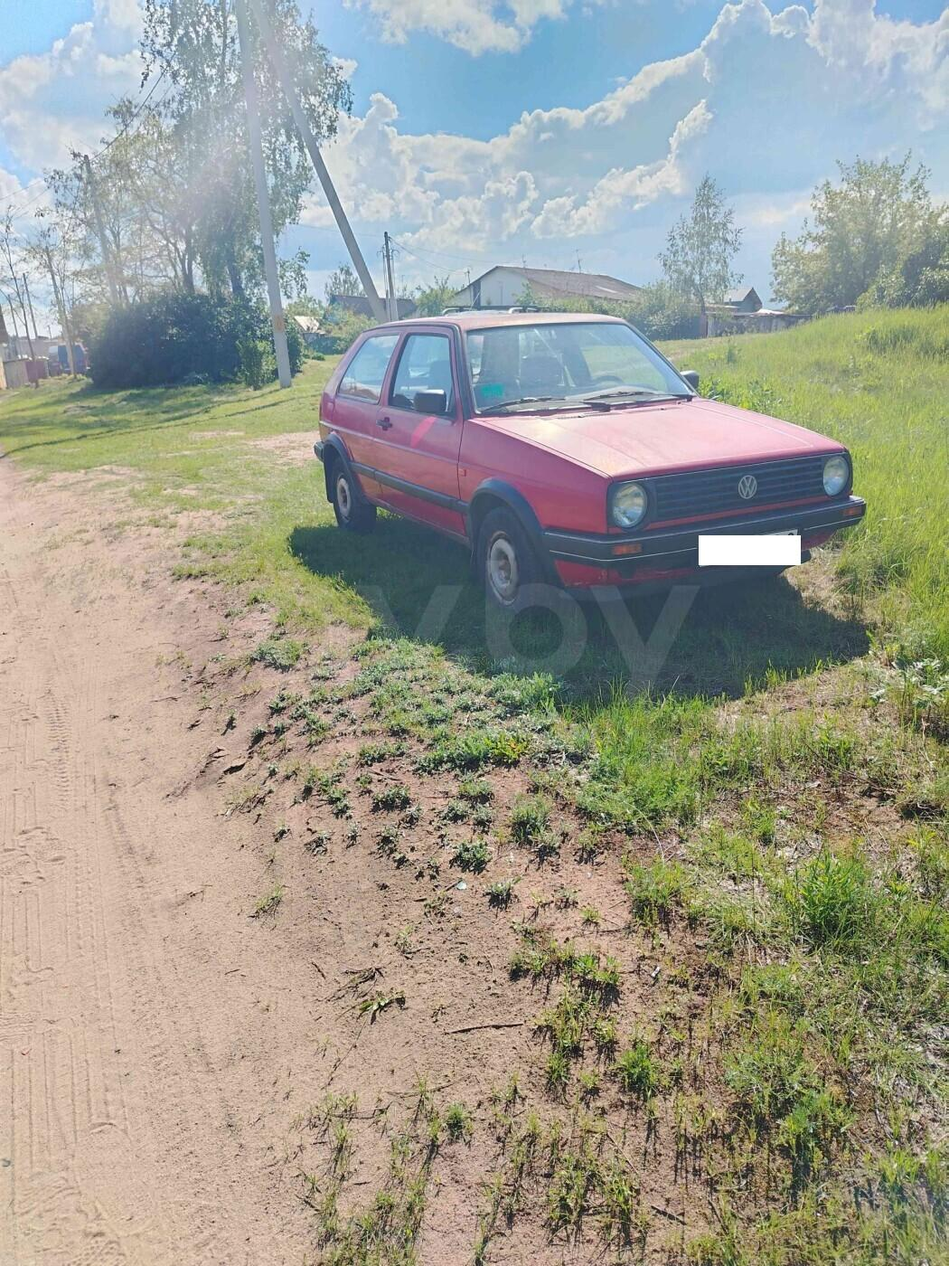Golf_1983-1992: (316, 315, 871, 628)
